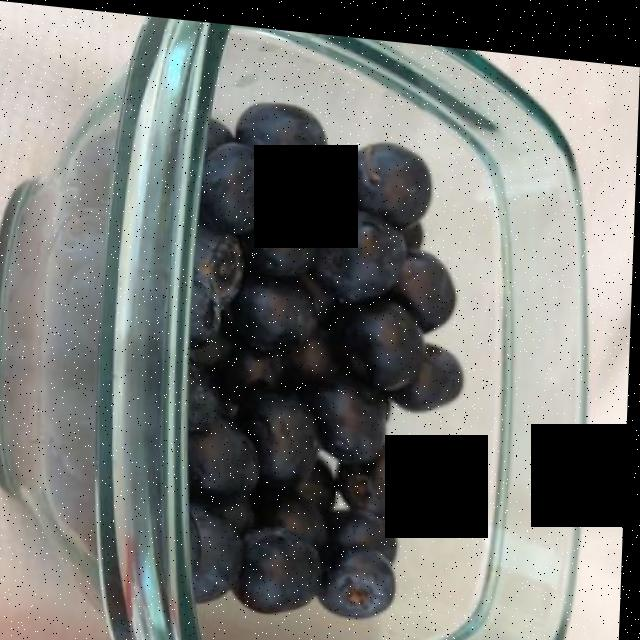blueberries: (4, 67, 496, 627)
